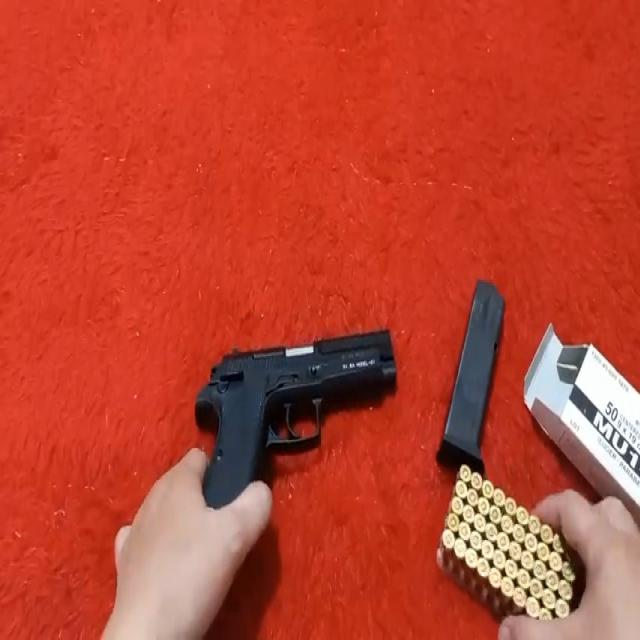handgun: (192, 314, 400, 503)
